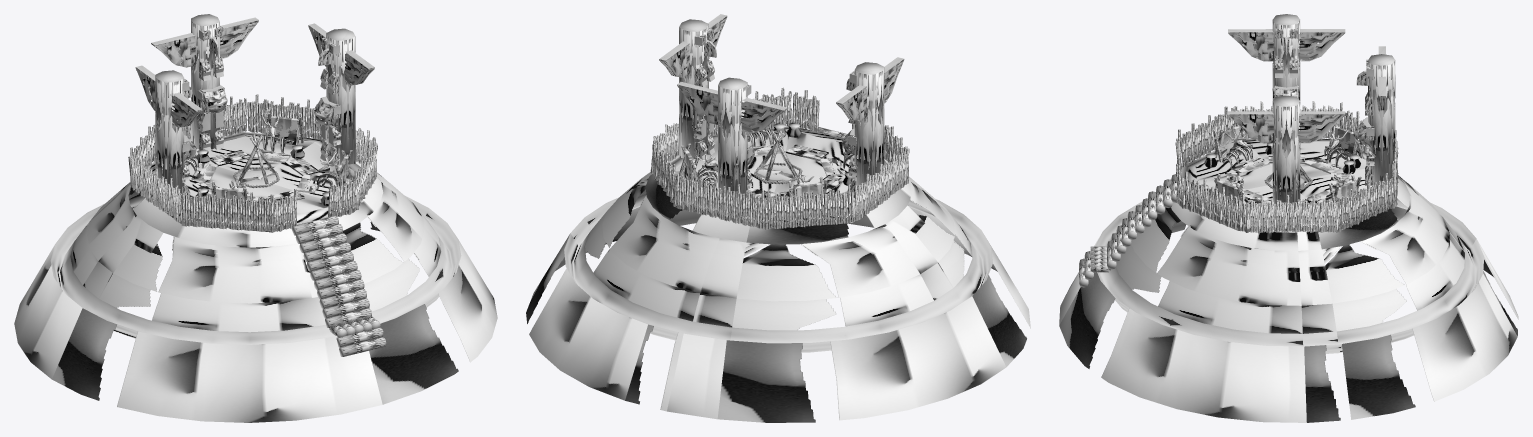
File: wonder.dae
3 views of the same model, side by side, from view 1: azimuth 30°, elevation 25°; view 2: azimuth 150°, elevation 25°; view 3: azimuth 270°, elevation 25° (orthographic). The views are drawn at different scales.
Parts seen in each view (by area): view 1: wonder; view 2: wonder; view 3: wonder.
Boxes of the visible parts, x1,y1,x2,y2 form: wonder: (14, 14, 497, 422); wonder: (526, 14, 1030, 422); wonder: (1059, 14, 1518, 422).
Bounding box in the file's own units: 43.76 × 41.86 × 26.14.
